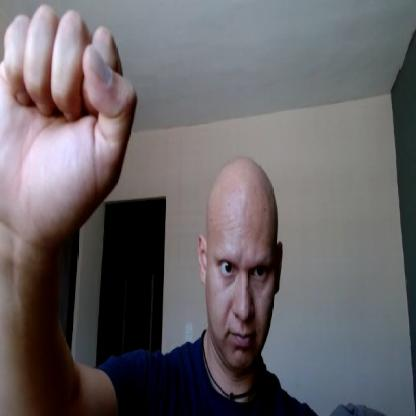S: (0, 0, 138, 234)
